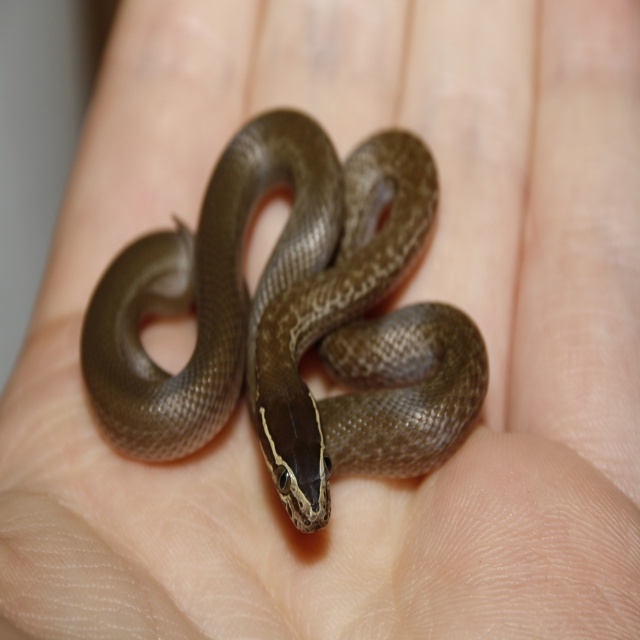Snake: (80, 106, 488, 534)
